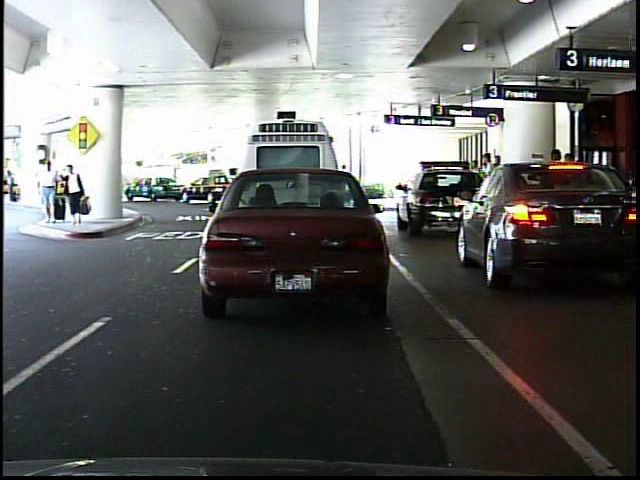person: (62, 160, 87, 225), (41, 153, 63, 220), (333, 158, 354, 201), (167, 165, 185, 198), (7, 167, 22, 206)
